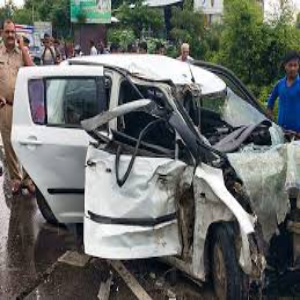door: (80, 146, 200, 267)
